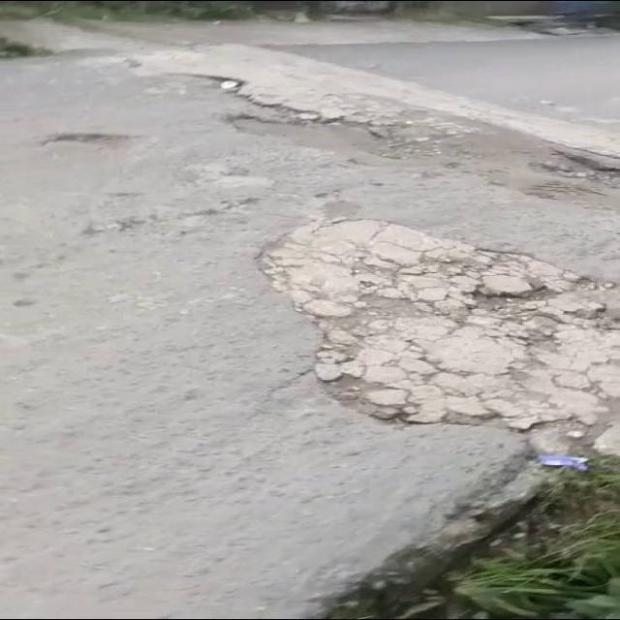lubang: (123, 63, 613, 229), (263, 220, 619, 438), (43, 133, 138, 150)
